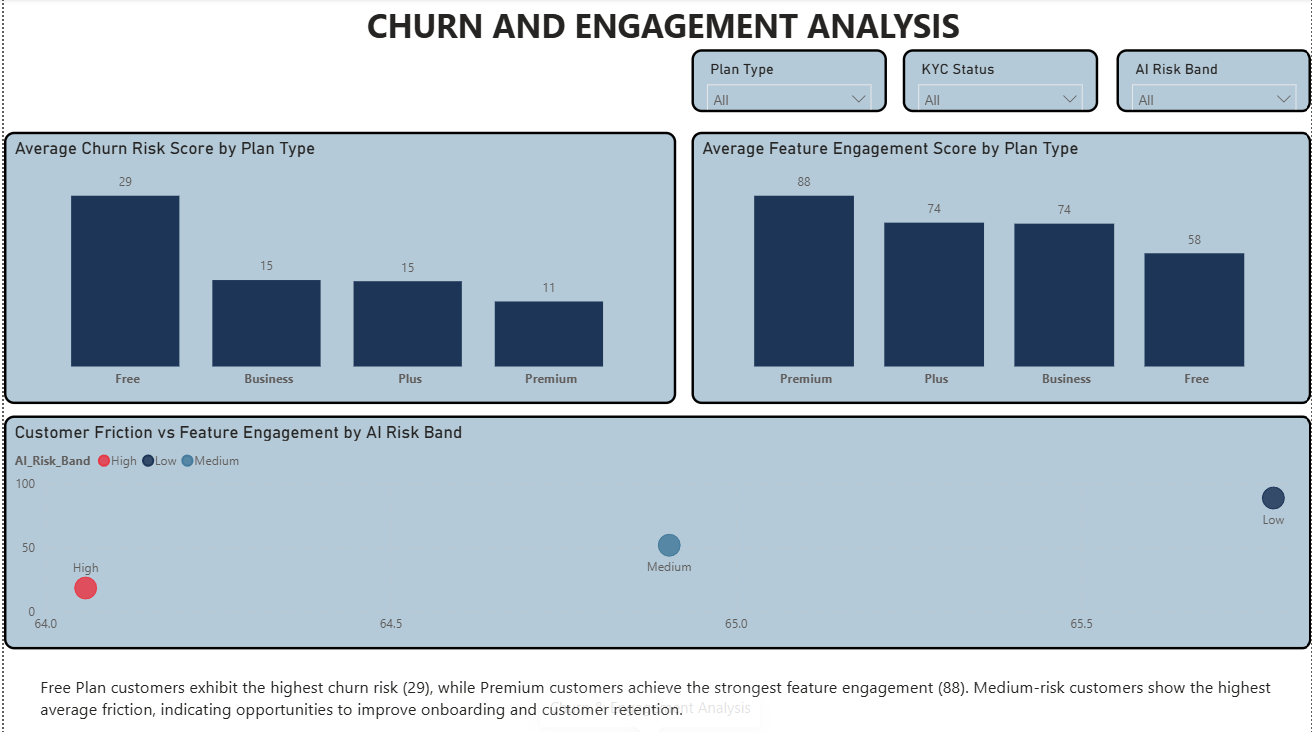

The page's visual inventory and layout, read from the dashboard file:
{"tool":"powerbi","page":{"name":"Churn & Engagement Analysis","canvas":[1280,720],"ordinal":2},"visuals":[{"type":"textbox","box":[9.8,0,1270.5,61.1],"z":0},{"type":"slicer","fields":{"Values":["Fact_Customers.Plan_Type"]},"box":[672.5,50,191.2,61.2],"z":1000},{"type":"slicer","fields":{"Values":["Fact_Customers.KYC_Status"]},"box":[878.8,50,191.2,61.2],"z":2000},{"type":"slicer","fields":{"Values":["Fact_Customers.AI_Risk_Band"]},"box":[1088.8,50,191.2,61.2],"z":3000},{"type":"clusteredColumnChart","title":"Average Churn Risk Score by Plan Type","fields":{"Category":["Dim_Plan.Plan_Type"],"Y":["Fact_Customers.Average Churn Risk Score"]},"box":[0,131.2,657.5,266.2],"z":4000},{"type":"clusteredColumnChart","title":"Average Feature Engagement Score by Plan Type","fields":{"Y":["Fact_Customers.Average Feature Engagement Score"],"Category":["Fact_Customers.Plan_Type"]},"box":[672.5,131.2,607.5,266.2],"z":5000},{"type":"scatterChart","title":"Customer Friction vs Feature Engagement by AI Risk Band","fields":{"X":["Avg(Fact_Customers.Customer_Friction_Score)"],"Y":["Avg(Fact_Customers.Core_Feature_Score)"],"Series":["Fact_Customers.AI_Risk_Band"]},"box":[0,408.8,1280,228.8],"z":6000},{"type":"textbox","box":[30.6,657.9,1220.4,62.4],"z":7000}]}

Visuals, with their boxes in screenshot pixels (x1, y1, x2, y2), scaled from the page's 1280x720 canvas onto the 1312x732 screenshot:
textbox: region(10, 0, 1311, 62)
slicer - Fact_Customers.Plan_Type: region(689, 51, 885, 113)
slicer - Fact_Customers.KYC_Status: region(901, 51, 1097, 113)
slicer - Fact_Customers.AI_Risk_Band: region(1116, 51, 1311, 113)
"Average Churn Risk Score by Plan Type" clusteredColumnChart: region(0, 133, 674, 404)
"Average Feature Engagement Score by Plan Type" clusteredColumnChart: region(689, 133, 1311, 404)
"Customer Friction vs Feature Engagement by AI Risk Band" scatterChart: region(0, 416, 1311, 648)
textbox: region(31, 669, 1282, 731)
